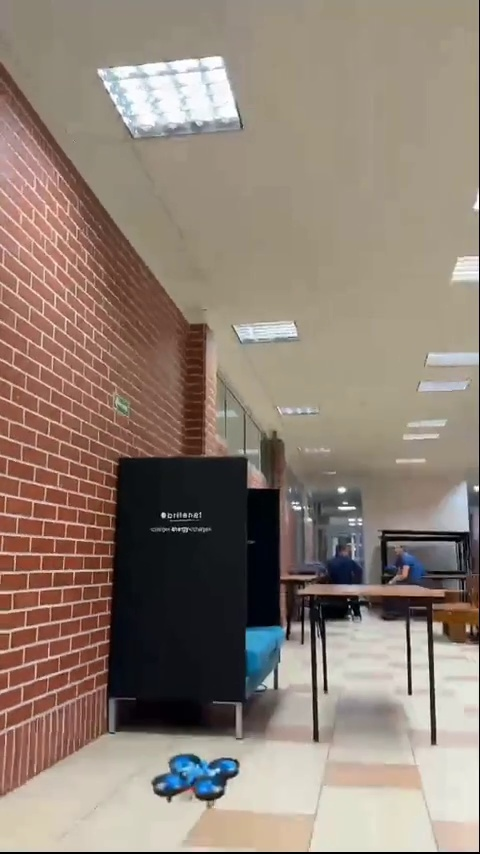drone: (155, 758, 238, 808)
no vest: (320, 543, 368, 594), (382, 539, 423, 589)
